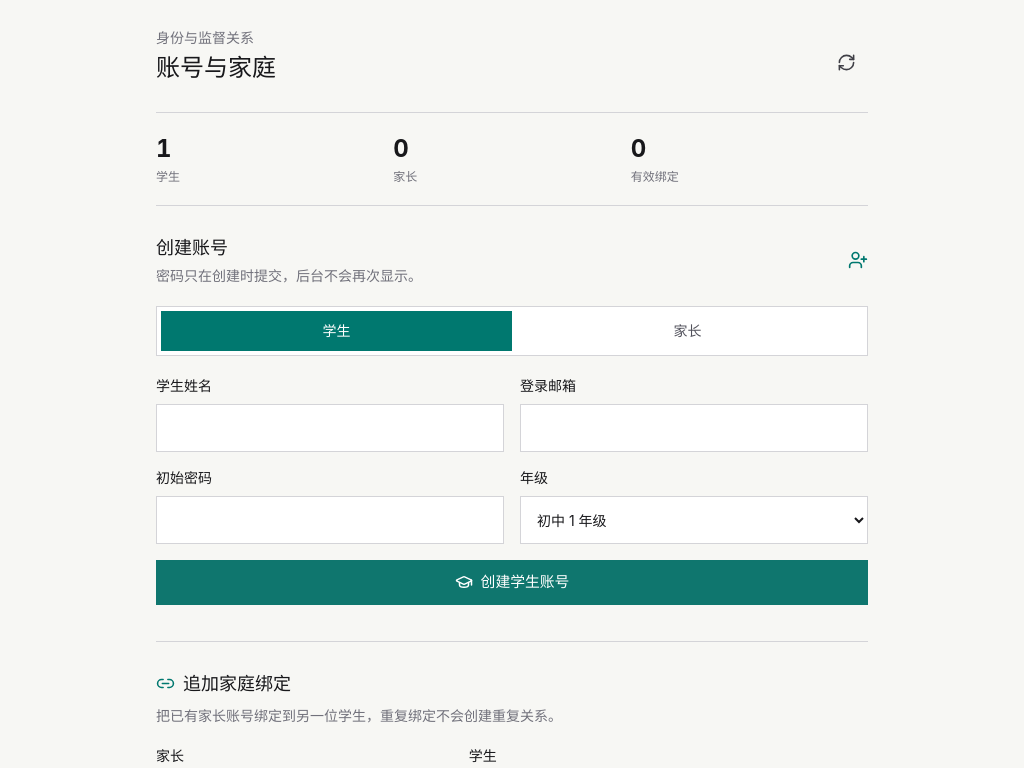
Test: requires a student selection when creating a parent account
Click the button "家长": point(688, 331) [512,311,863,351]
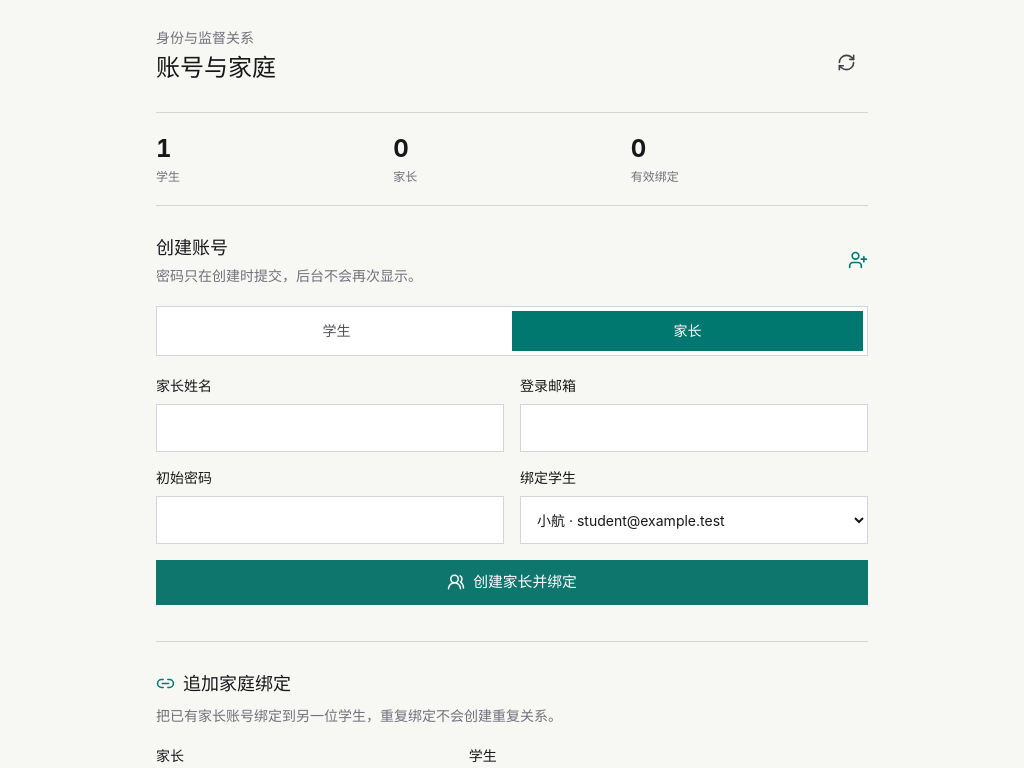
Result: the dropdown named "parent-student" shows "小航 · student@example.test" at [520,496,868,544]
Result: the text "创建家长并绑定" is shown at [156,560,868,605]
